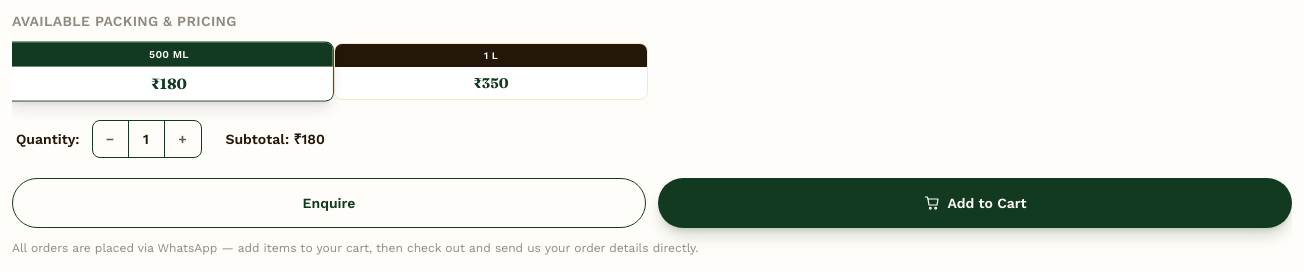
it: AddToCartPanel › updates the subtotal when quantity increases
Click the button named "Increase quantity": (182, 139) [164,121,200,157]
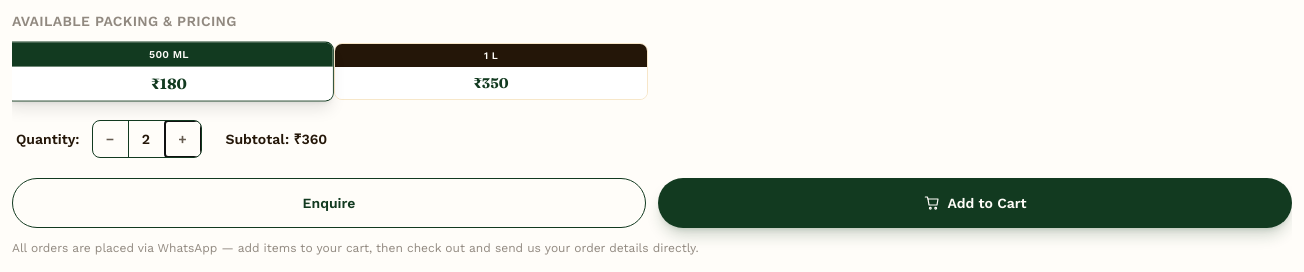
expect the text "Subtotal: ₹360" is shown: met, box [226,129,327,149]
